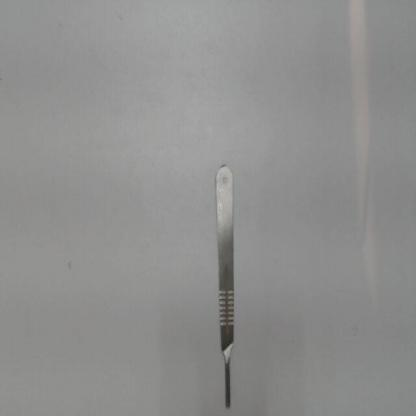No.4 BP Handle: (204, 154, 236, 413)
